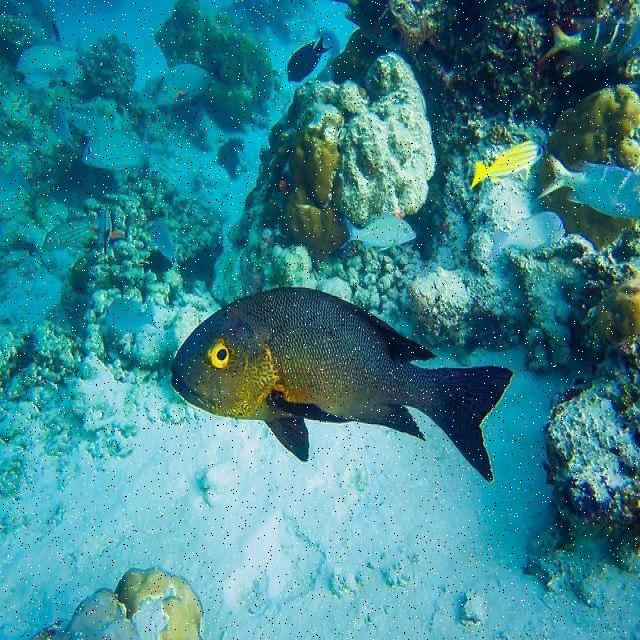fish: (170, 287, 516, 484), (536, 155, 637, 220), (537, 19, 639, 69), (152, 59, 228, 109), (467, 141, 544, 190), (338, 209, 418, 256), (80, 127, 160, 173), (488, 214, 568, 258), (287, 34, 331, 84), (43, 214, 98, 252), (103, 298, 157, 334)
